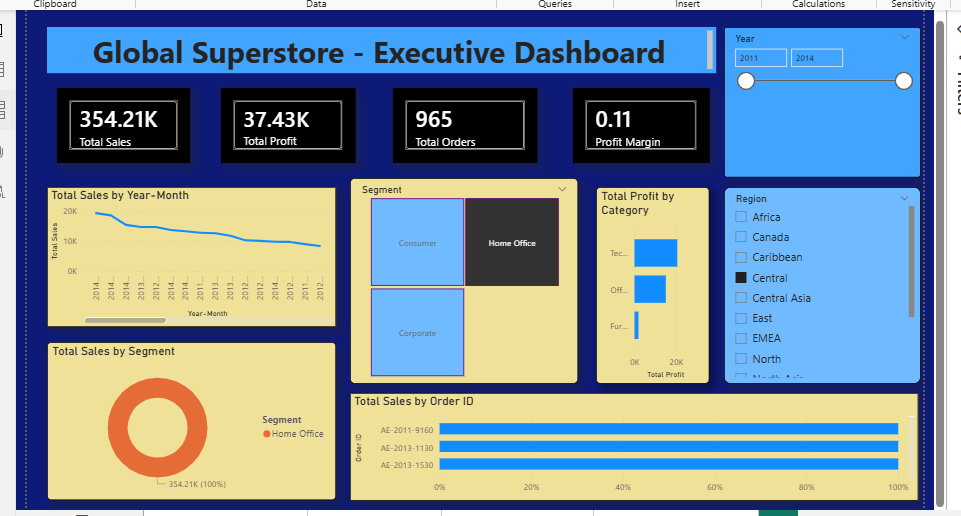

This screenshot's page, from the dashboard's own definition file:
{"tool":"powerbi","page":{"name":"01_Executive_Overview","canvas":[1280,720],"ordinal":0},"visuals":[{"type":"cardVisual","fields":{"Data":["Table.Total Sales"]},"box":[42.4,112.7,190.2,106.8],"z":0},{"type":"lineChart","fields":{"Category":["DimDate.Year-Month"],"Y":["Table.Total Sales"]},"box":[29.3,254.6,412.7,200.5],"z":1000},{"type":"donutChart","fields":{"Category":["DimCustomer.Segment"],"Y":["Table.Total Sales"]},"box":[28.6,475.7,412.9,225.7],"z":2000},{"type":"barChart","fields":{"Category":["DimProduct.Category"],"Y":["Table.Total Profit"]},"box":[812.2,254.6,162.4,281],"z":3000},{"type":"slicer","fields":{"Values":["DimDate.Year"]},"box":[995.1,26.3,281,215.1],"z":4000},{"type":"slicer","fields":{"Values":["DimRegion.Region"]},"box":[995.1,254.6,281,281],"z":5000},{"type":"slicer","fields":{"Values":["DimCustomer.Segment"]},"box":[461,241.5,326.3,294.1],"z":6000},{"type":"cardVisual","fields":{"Data":["Table.Total Profit"]},"box":[276.6,112.7,191.7,106.8],"z":7000},{"type":"cardVisual","fields":{"Data":["Table.Total Orders"]},"box":[522.4,112.7,206.3,106.8],"z":8000},{"type":"cardVisual","fields":{"Data":["Table.Profit Margin"]},"box":[780,112.7,194.6,106.8],"z":9000},{"type":"textbox","box":[29.3,26.3,955.6,65.9],"z":10000},{"type":"hundredPercentStackedBarChart","fields":{"Category":["DimOrder.Order ID"],"Y":["Table.Total Sales"]},"box":[461,548.8,812.2,153.7],"z":11000}]}

Visuals, with their boxes in screenshot pixels (x1, y1, x2, y2):
cardVisual - Table.Total Sales: <bbox>26, 70, 165, 148</bbox>
lineChart - DimDate.Year-Month x Table.Total Sales: <bbox>16, 174, 319, 321</bbox>
donutChart - DimCustomer.Segment x Table.Total Sales: <bbox>16, 336, 318, 501</bbox>
barChart - DimProduct.Category x Table.Total Profit: <bbox>590, 174, 708, 380</bbox>
slicer - DimDate.Year: <bbox>723, 7, 929, 164</bbox>
slicer - DimRegion.Region: <bbox>723, 174, 929, 380</bbox>
slicer - DimCustomer.Segment: <bbox>332, 164, 571, 380</bbox>
cardVisual - Table.Total Profit: <bbox>197, 70, 338, 148</bbox>
cardVisual - Table.Total Orders: <bbox>377, 70, 528, 148</bbox>
cardVisual - Table.Profit Margin: <bbox>566, 70, 708, 148</bbox>
textbox: <bbox>16, 7, 716, 55</bbox>
hundredPercentStackedBarChart - DimOrder.Order ID x Table.Total Sales: <bbox>332, 389, 927, 502</bbox>
